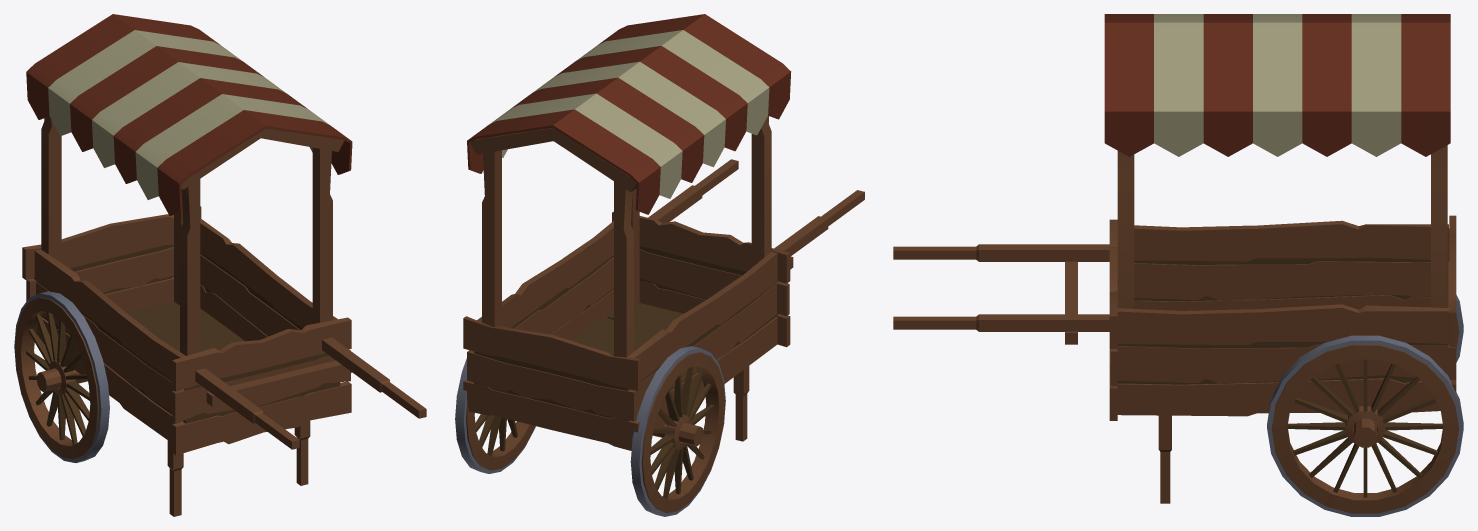
The model's file is cart.glb.
3 views of the same model, side by side, from view 1: azimuth 30°, elevation 25°; view 2: azimuth 150°, elevation 25°; view 3: azimuth 270°, elevation 25° (orthographic). The views are drawn at different scales.
Parts seen in each view (by area): view 1: Cart; view 2: Cart; view 3: Cart.
Part boxes in pixels (x1,y1,x2,y2): Cart: (14,14,426,516); Cart: (455,14,864,516); Cart: (893,14,1463,516).
Bounding box in the file's own units: 0.462 × 0.7961 × 0.9274.
1 material, 1 textured.
